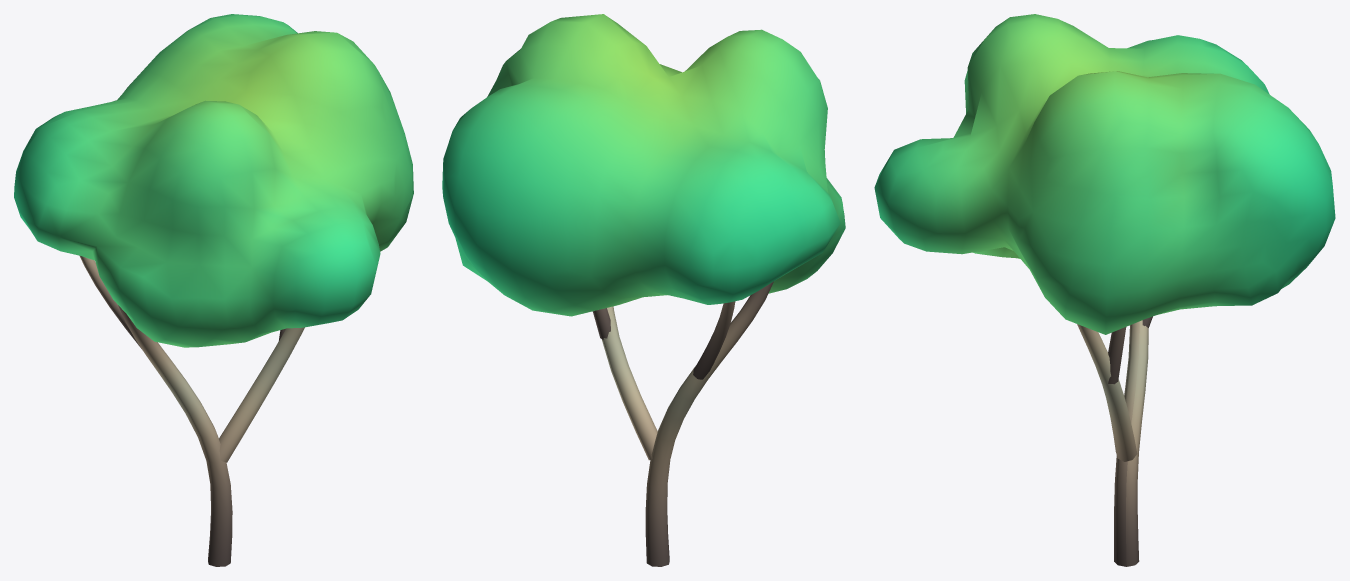
Rendered from tree.fbx.
The picture shows the model from 3 angles, left to right: view 1: azimuth 30°, elevation 25°; view 2: azimuth 150°, elevation 25°; view 3: azimuth 270°, elevation 25°; orthographic projection. The views are drawn at different scales.
Visible parts, largest first — view 1: Cube.001; view 2: Cube.001; view 3: Cube.001.
Part boxes in pixels (x1,y1,x2,y2): Cube.001: (14,14,413,566); Cube.001: (442,14,845,566); Cube.001: (874,14,1335,566).
Bounding box in the file's own units: 228 × 311 × 245.
